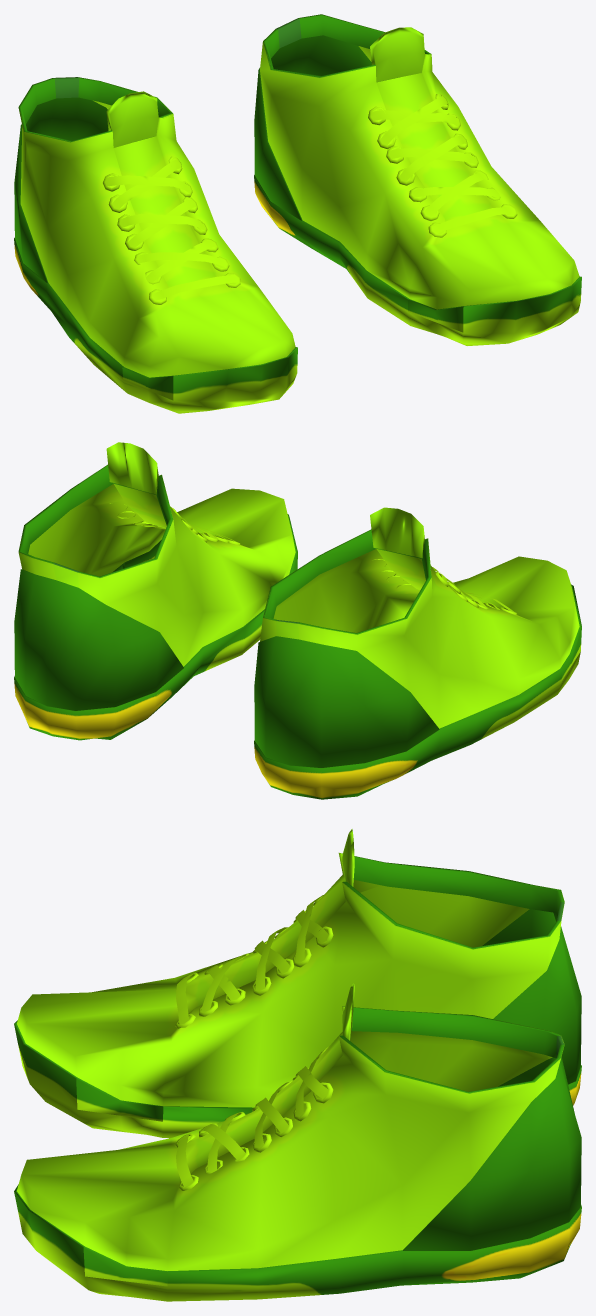
The model's file is male_jersey_protro.fbx.
3 renders of one model, top to bottom at view 1: azimuth 30°, elevation 25°; view 2: azimuth 150°, elevation 25°; view 3: azimuth 270°, elevation 25°, orthographic. The views are drawn at different scales.
Parts seen in each view (by area): view 1: male_character.stylistic.protro; view 2: male_character.stylistic.protro; view 3: male_character.stylistic.protro.
Boxes of the visible parts, x1,y1,x2,y2 form: male_character.stylistic.protro: [14, 14, 581, 413]; male_character.stylistic.protro: [14, 442, 581, 799]; male_character.stylistic.protro: [14, 829, 581, 1301].
Bounding box in the file's own units: 26.17 × 52.46 × 49.33.
